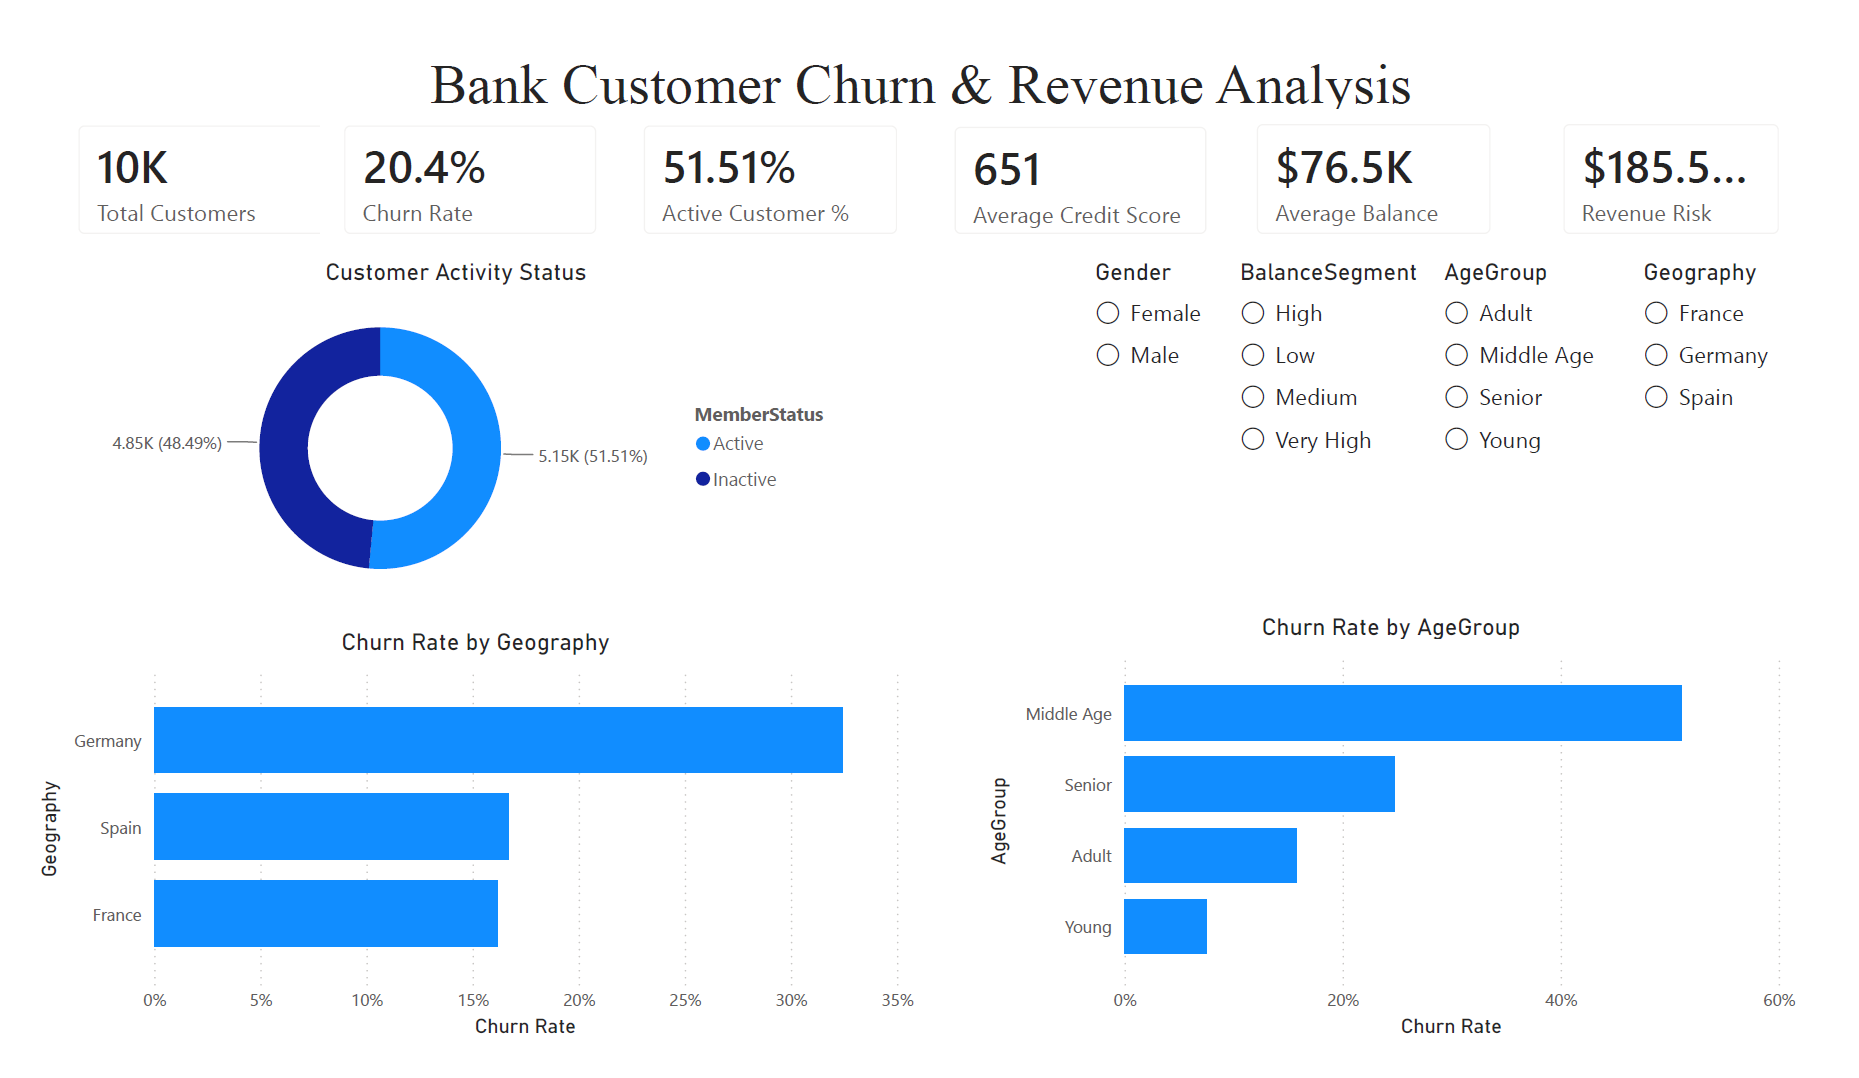

The dashboard page shown, as its layout file describes it:
{"tool":"powerbi","page":{"name":"Executive Overview","canvas":[1280,720],"ordinal":0},"visuals":[{"type":"cardVisual","fields":{"Data":["cleaned_churn_data.Total Customers"]},"box":[17.1,49,213.5,111.4],"z":0},{"type":"clusteredBarChart","fields":{"Category":["cleaned_churn_data.Geography"],"Y":["cleaned_churn_data.Churn Rate"]},"box":[0,423.3,633.3,296.7],"z":1000},{"type":"cardVisual","fields":{"Data":["cleaned_churn_data.Churn Rate"]},"box":[205.9,48.6,213.4,111.3],"z":3000},{"type":"cardVisual","fields":{"Data":["cleaned_churn_data.Average Balance"]},"box":[855,48.3,200,111.7],"z":4000},{"type":"cardVisual","fields":{"Data":["cleaned_churn_data.Revenue Risk"]},"box":[1073.3,48.3,186.7,111.7],"z":5000},{"type":"cardVisual","fields":{"Data":["cleaned_churn_data.Active Customer %"]},"box":[419.3,48.6,213.4,111.3],"z":6000},{"type":"cardVisual","fields":{"Data":["cleaned_churn_data.Average Credit Score"]},"box":[640,50,213.3,110],"z":7000},{"type":"textbox","title":"Bank Customer Churn & Revenue Analysis ","box":[10,12.9,1245.7,41.4],"z":8000},{"type":"clusteredBarChart","fields":{"Category":["cleaned_churn_data.AgeGroup"],"Y":["cleaned_churn_data.Churn Rate"]},"box":[675,411.7,585,308.3],"z":9000},{"type":"donutChart","title":"Customer Activity Status","fields":{"Y":["CountNonNull(cleaned_churn_data.Exited)"],"Category":["cleaned_churn_data.MemberStatus"]},"box":[20,160,565,251.7],"z":10000},{"type":"listSlicer","fields":{"Values":["cleaned_churn_data.Geography"]},"box":[1141.7,160,117.5,120],"z":11000,"group":"g1"},{"type":"listSlicer","fields":{"Values":["cleaned_churn_data.Gender"]},"box":[751.7,160,102.5,93.8],"z":12000,"group":"g1"},{"type":"listSlicer","fields":{"Values":["cleaned_churn_data.AgeGroup"]},"box":[999.2,160,142.5,162.5],"z":13000,"group":"g1"},{"type":"listSlicer","fields":{"Values":["cleaned_churn_data.BalanceSegment"]},"box":[854.2,160,145,178.8],"z":14000,"group":"g1"},{"type":"group","id":"g1","title":"Group 1","box":[751.7,160,506.7,178.3],"z":14001}]}

Visuals, with their boxes in screenshot pixels (x1, y1, x2, y2), scaled from the page's 1280x720 canvas onto the 1859x1078 screenshot:
cardVisual - cleaned_churn_data.Total Customers: rect(25, 73, 335, 240)
clusteredBarChart - cleaned_churn_data.Geography x cleaned_churn_data.Churn Rate: rect(0, 634, 920, 1077)
cardVisual - cleaned_churn_data.Churn Rate: rect(299, 73, 609, 239)
cardVisual - cleaned_churn_data.Average Balance: rect(1242, 72, 1532, 240)
cardVisual - cleaned_churn_data.Revenue Risk: rect(1559, 72, 1830, 240)
cardVisual - cleaned_churn_data.Active Customer %: rect(609, 73, 919, 239)
cardVisual - cleaned_churn_data.Average Credit Score: rect(930, 75, 1239, 240)
"Bank Customer Churn & Revenue Analysis " textbox: rect(15, 19, 1824, 81)
clusteredBarChart - cleaned_churn_data.AgeGroup x cleaned_churn_data.Churn Rate: rect(980, 616, 1830, 1077)
"Customer Activity Status" donutChart: rect(29, 240, 850, 616)
listSlicer - cleaned_churn_data.Geography: rect(1658, 240, 1829, 419)
listSlicer - cleaned_churn_data.Gender: rect(1092, 240, 1241, 380)
listSlicer - cleaned_churn_data.AgeGroup: rect(1451, 240, 1658, 483)
listSlicer - cleaned_churn_data.BalanceSegment: rect(1241, 240, 1451, 507)
"Group 1" group: rect(1092, 240, 1828, 507)
